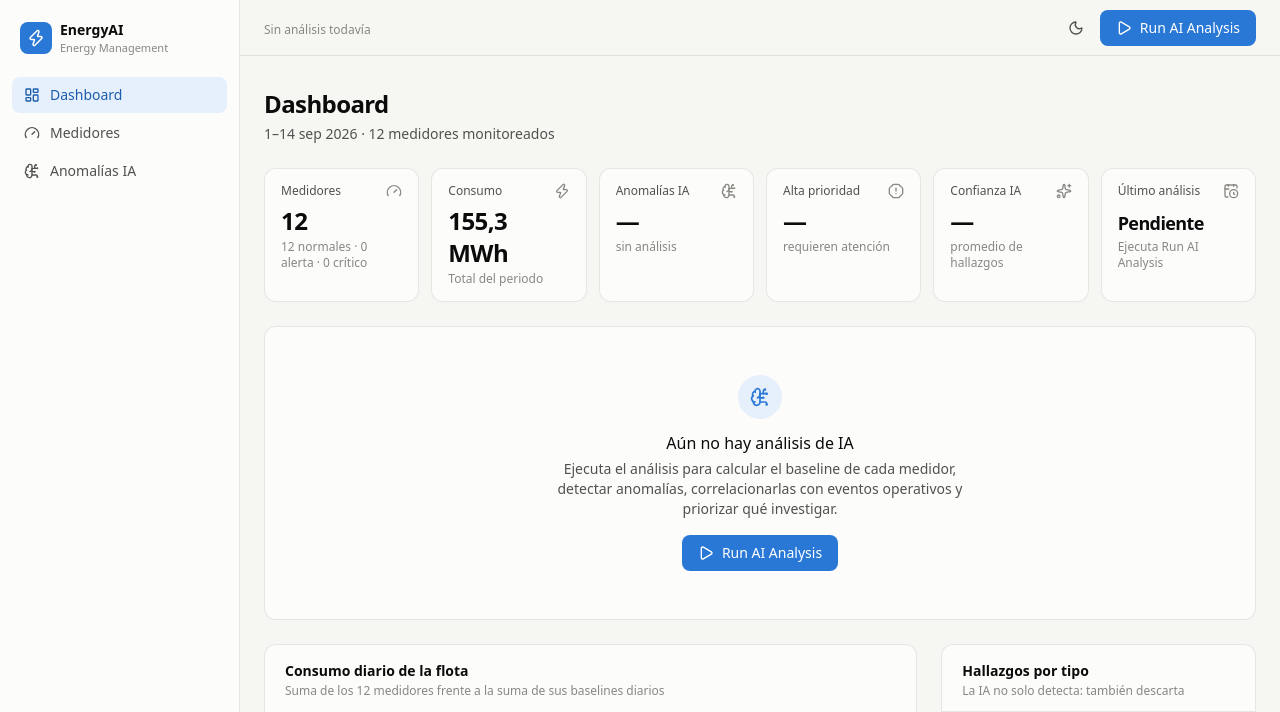
Test: AI analysis › follows the running analysis on conflict
Click the button "Run AI Analysis" in the row of "Sin análisis todavía" at point(1178, 28), box [1100,10,1256,46]
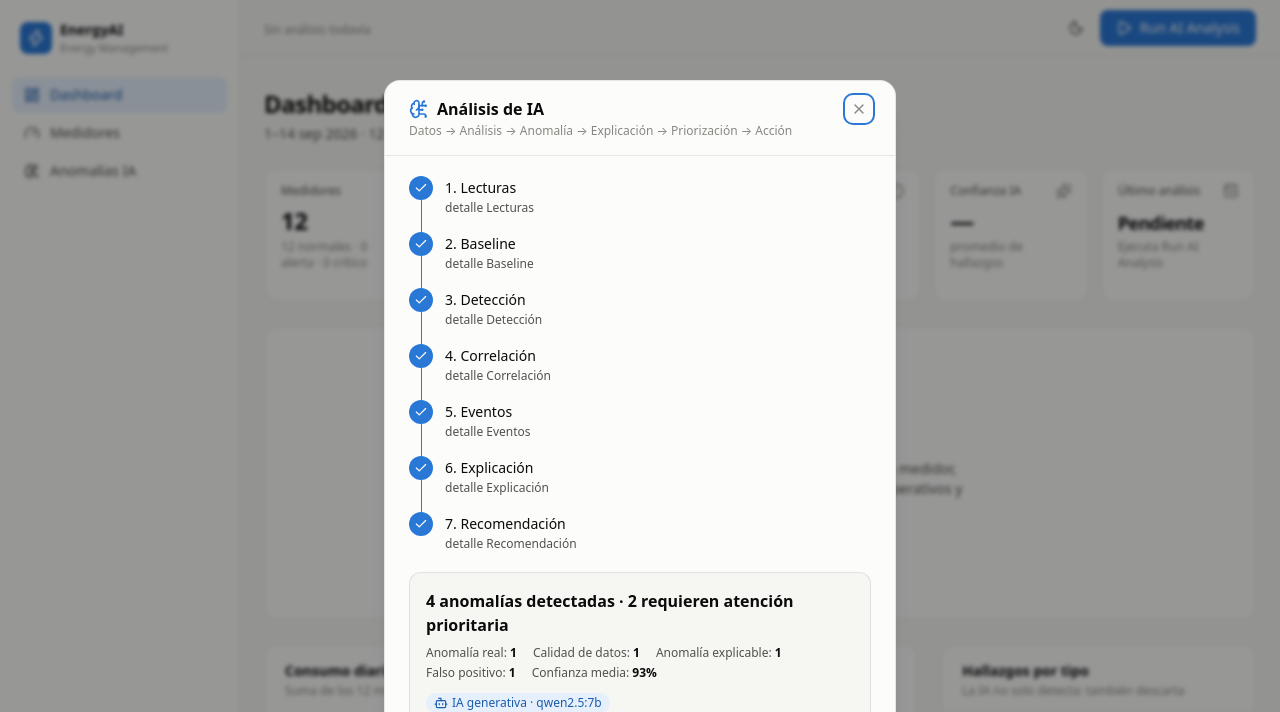
Result: the text "4 anomalías detectadas · 2 requieren atención prioritaria" is shown at [426,589,854,637]
